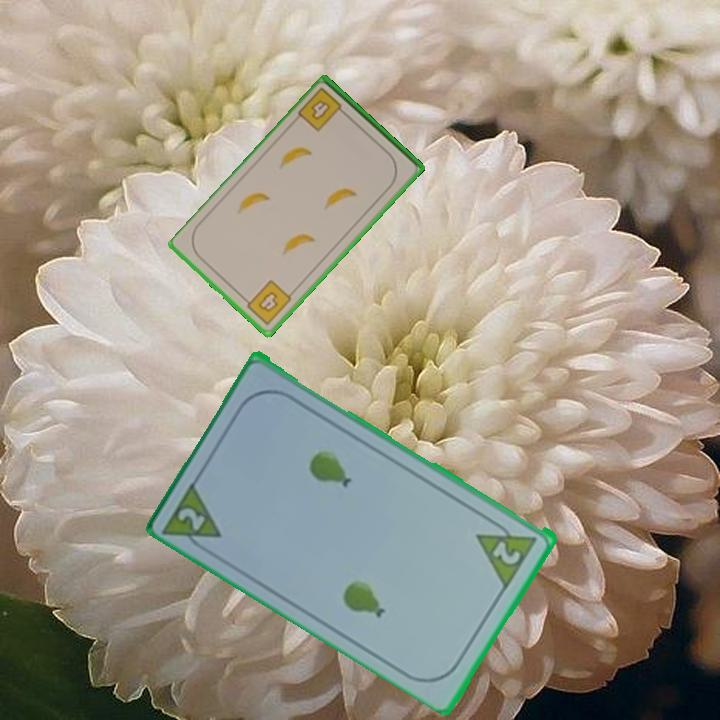2p: (160, 476, 226, 558), (489, 536, 524, 568)
4b: (239, 276, 295, 328), (295, 84, 350, 135)
